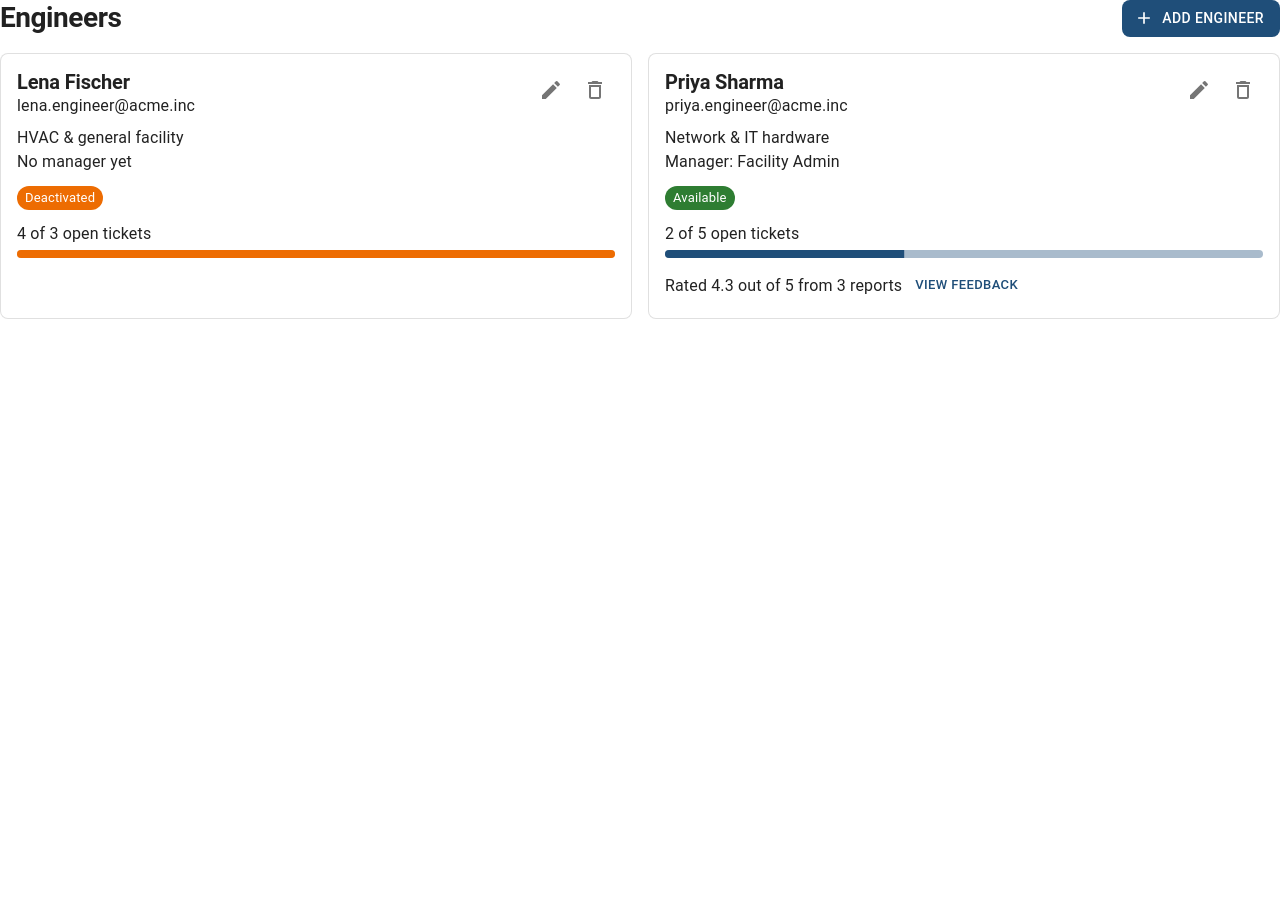
Scenario: EngineersPage › adds an engineer with their sign-in and shows them
This screenshot has width=1280, height=900.
Expected: the heading "Engineers" is shown, x1=0 y1=2 x2=122 y2=35
Click the button "Add engineer" at x=1201, y=18, box x1=1122 y1=0 x2=1279 y2=36
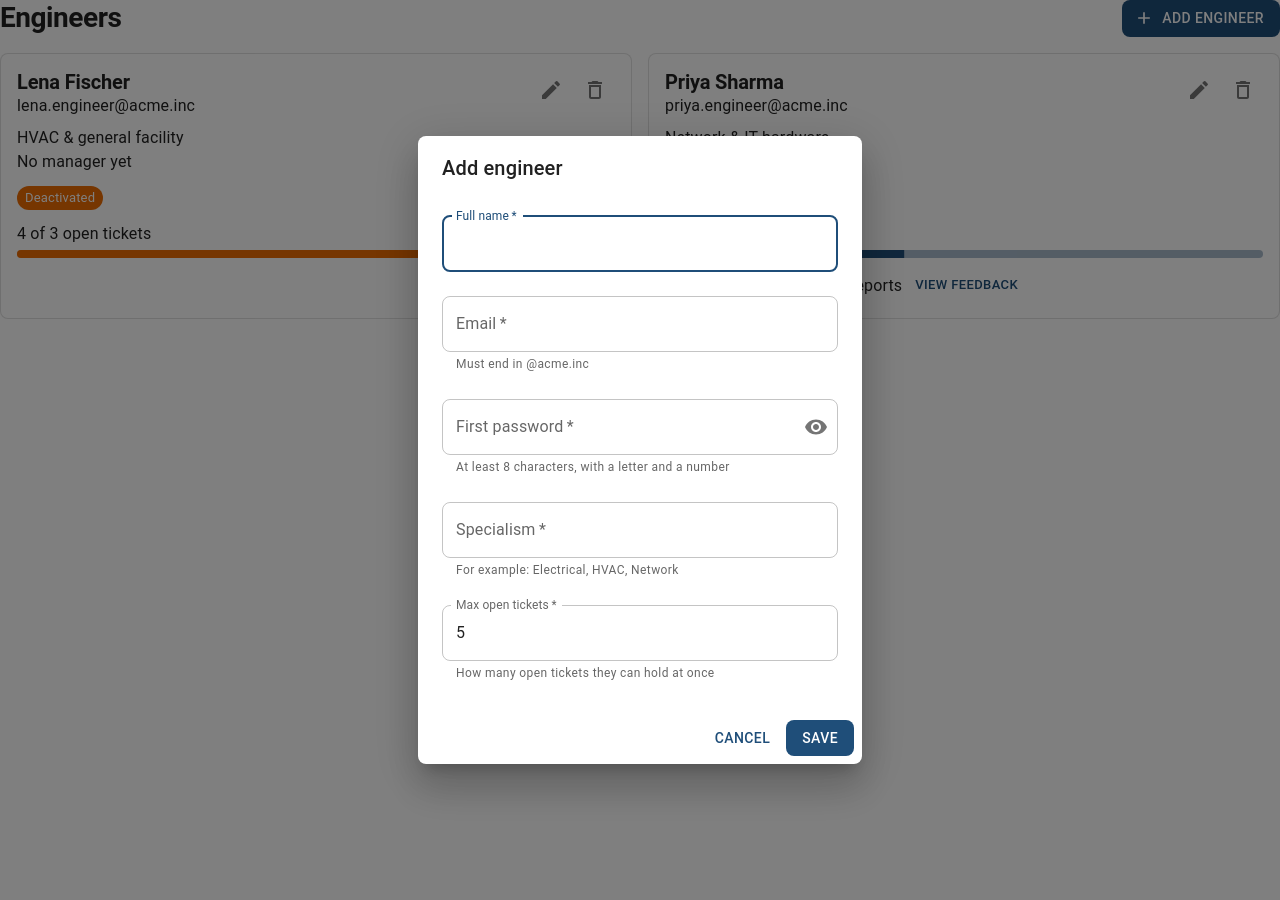
Type "  Sam Okoro " into the field labelled "Full name *" at x=640, y=244, box x1=442 y1=216 x2=838 y2=272
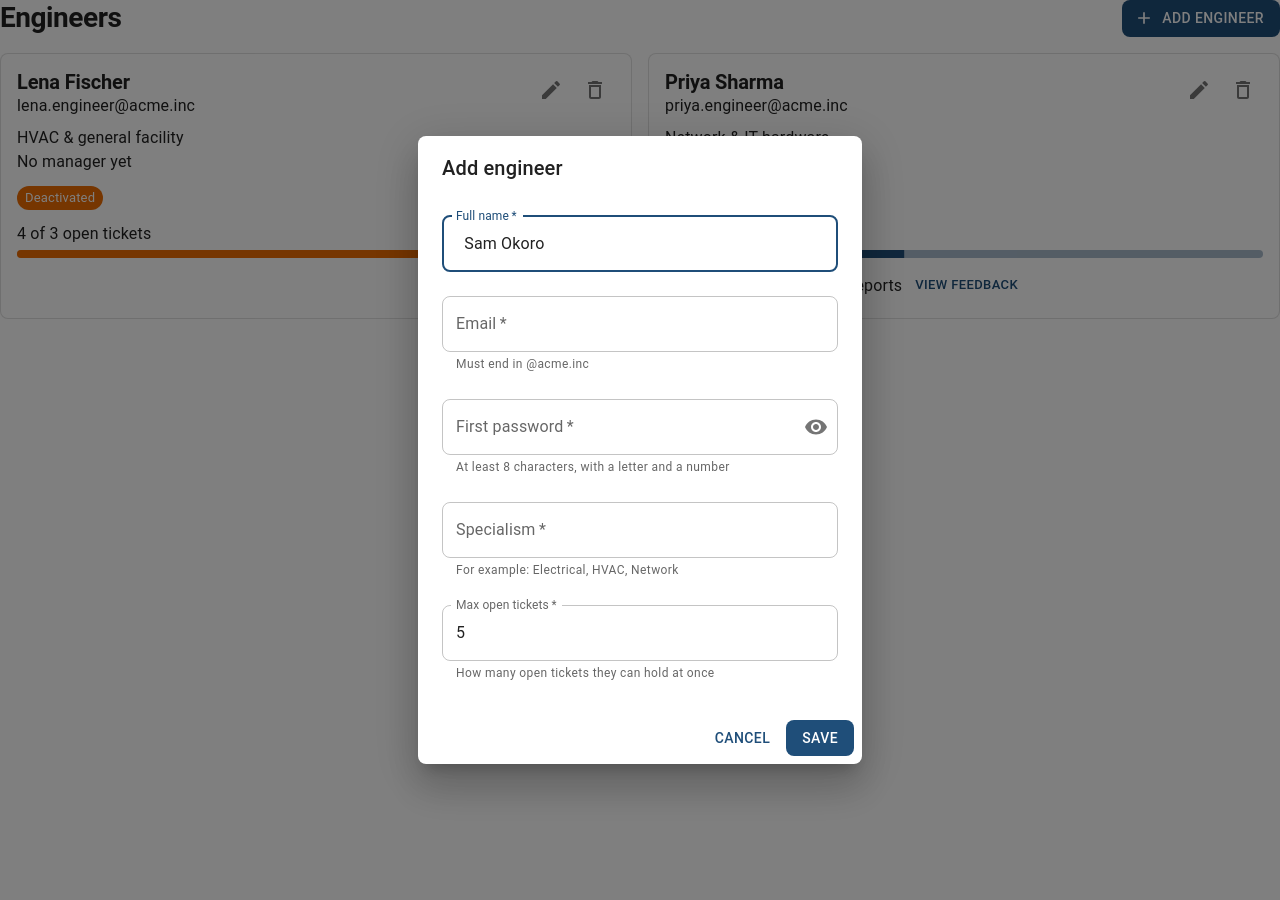
Type "sam.engineer@acme.inc" into the field labelled "Email *" at x=640, y=324, box x1=442 y1=296 x2=838 y2=352
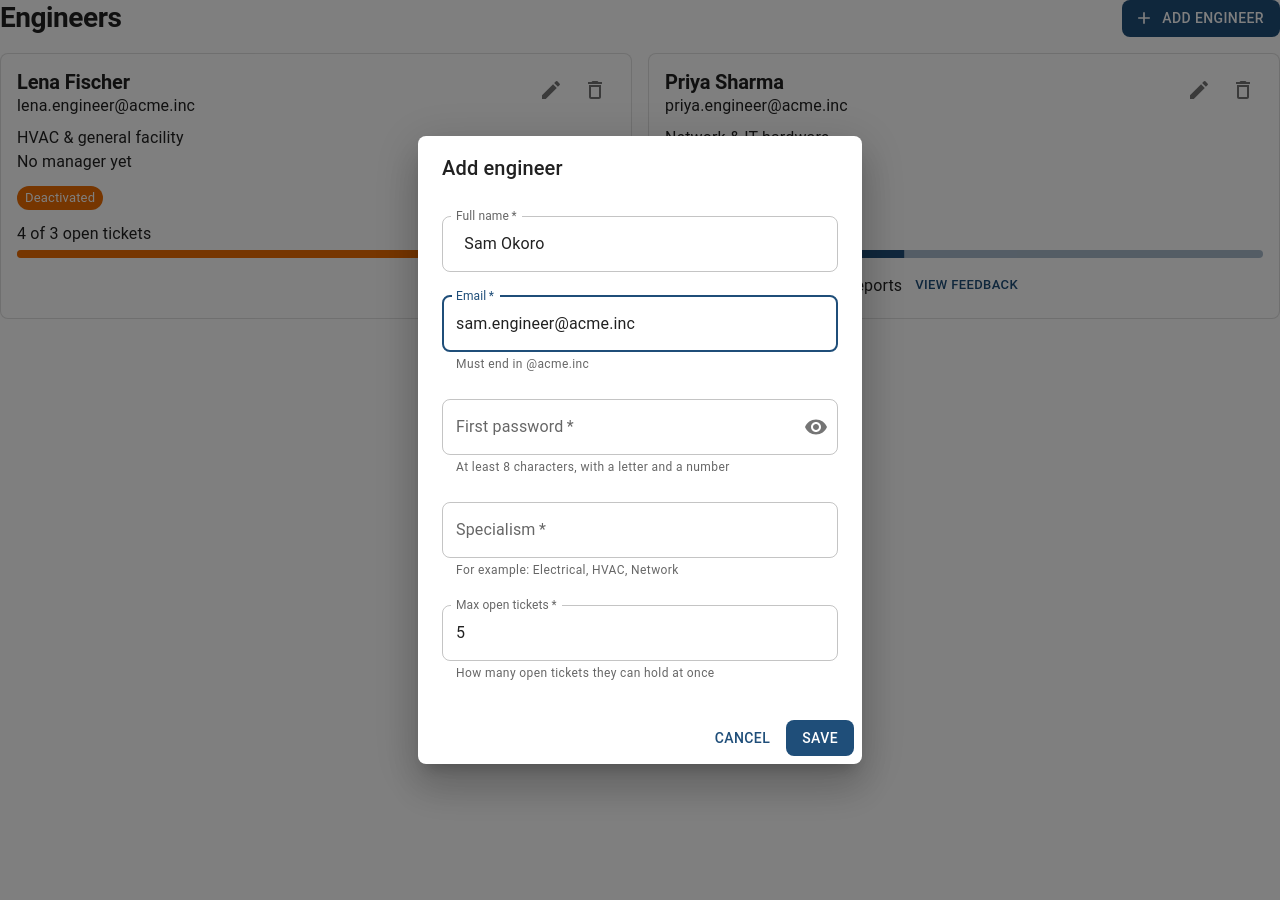
Type "Passw0rd!" into the password field labelled "First password *" at x=615, y=427, box x1=442 y1=399 x2=788 y2=455
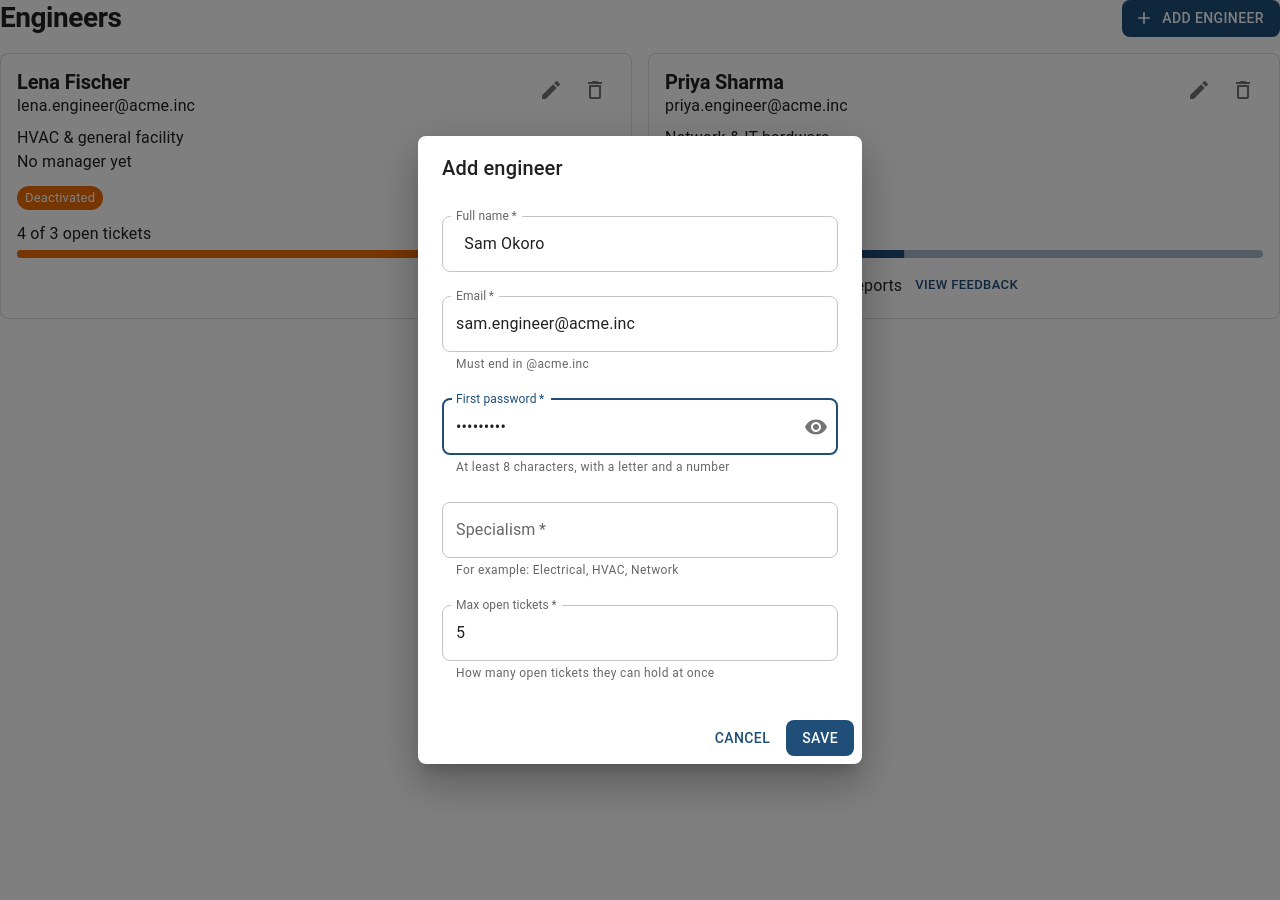
Type " Plumbing " into the field labelled "Specialism *" at x=640, y=530, box x1=442 y1=502 x2=838 y2=558
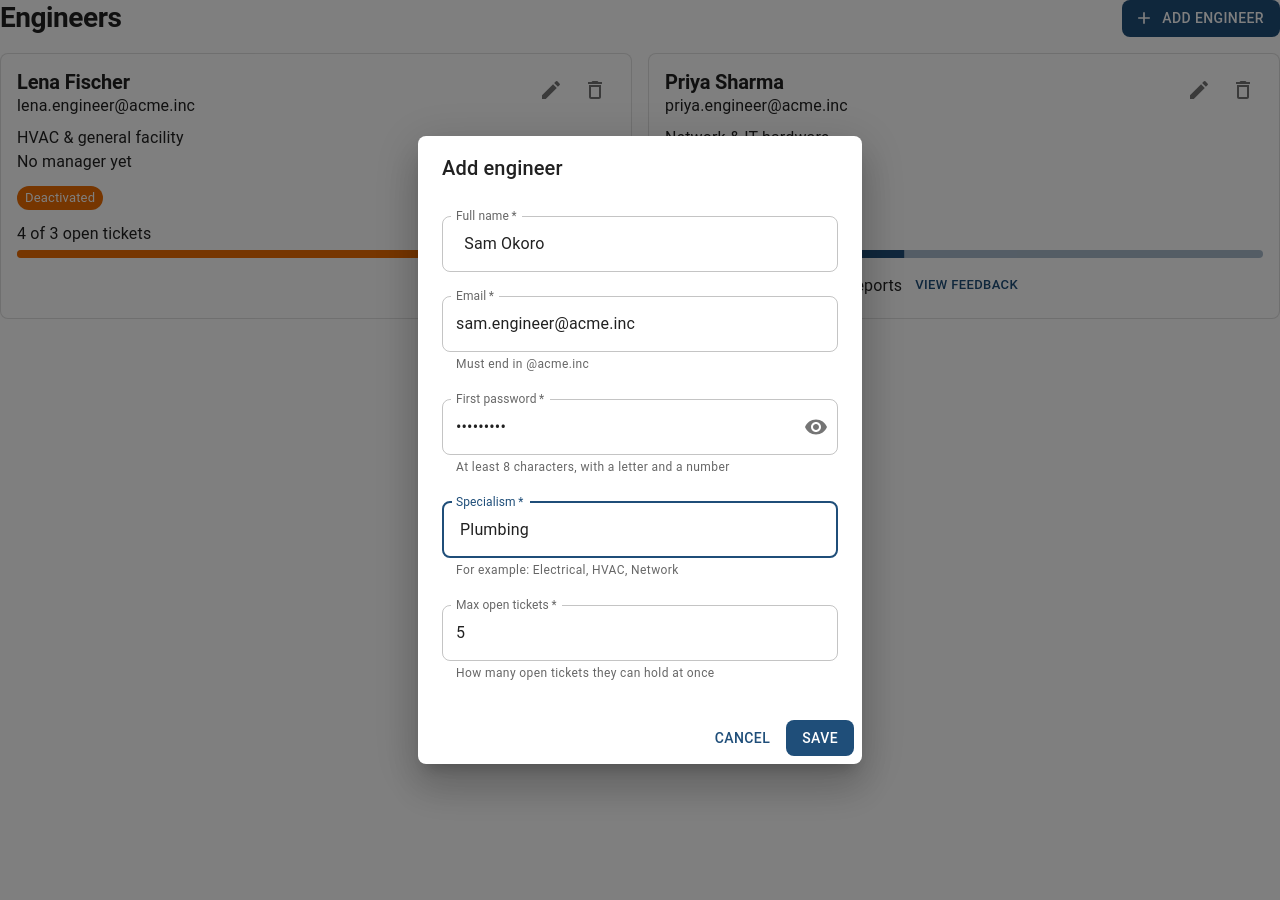
Result: the number field labelled "Max open tickets *" holds "5" at x1=442 y1=605 x2=838 y2=661
Click the button "Save" at x=820, y=738, box x1=786 y1=720 x2=854 y2=756
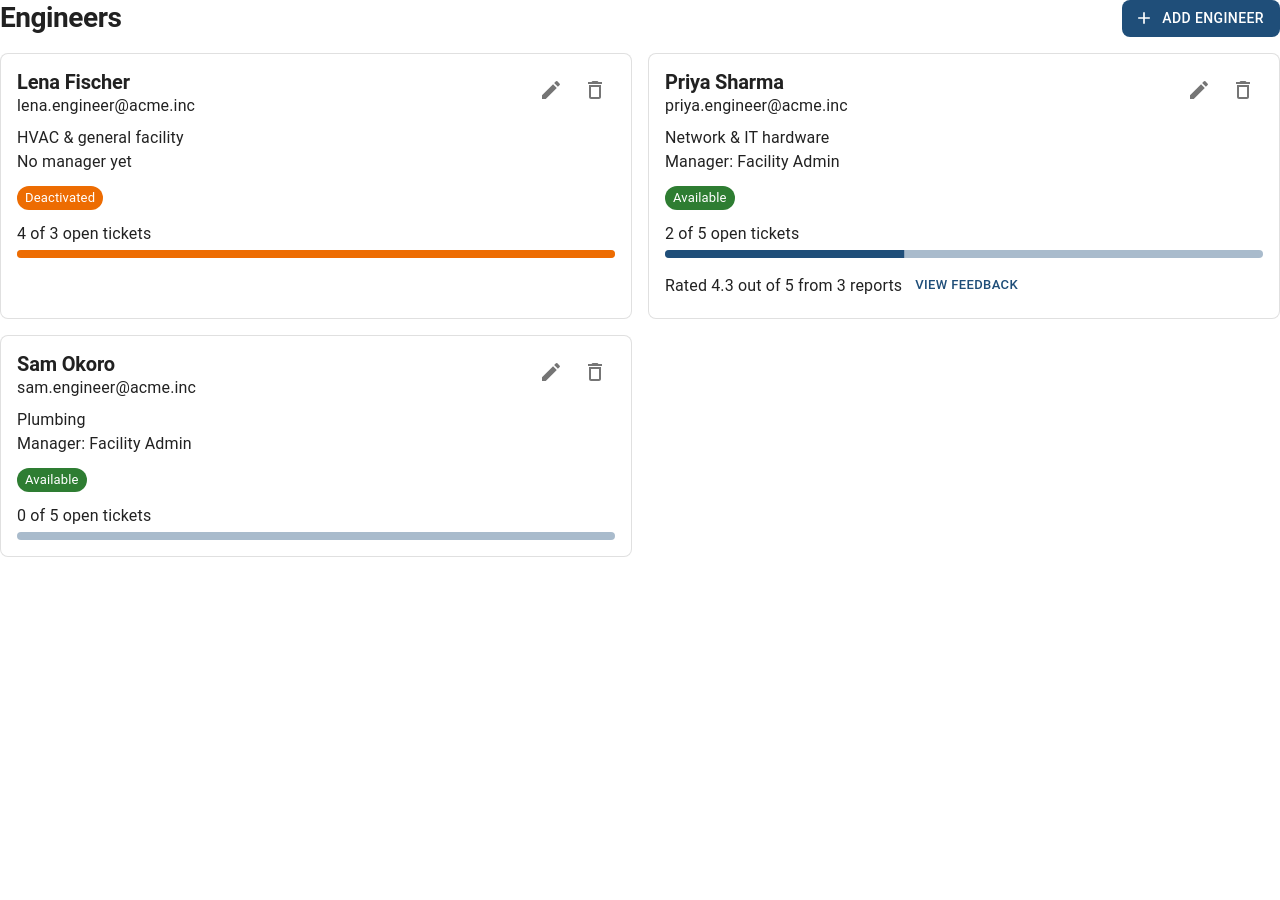
Result: the heading "Sam Okoro" is shown at x1=17 y1=352 x2=115 y2=376
Result: the text "Manager: Facility Admin" below "Plumbing" is shown at x1=17 y1=434 x2=192 y2=452
Result: the dialog is gone
